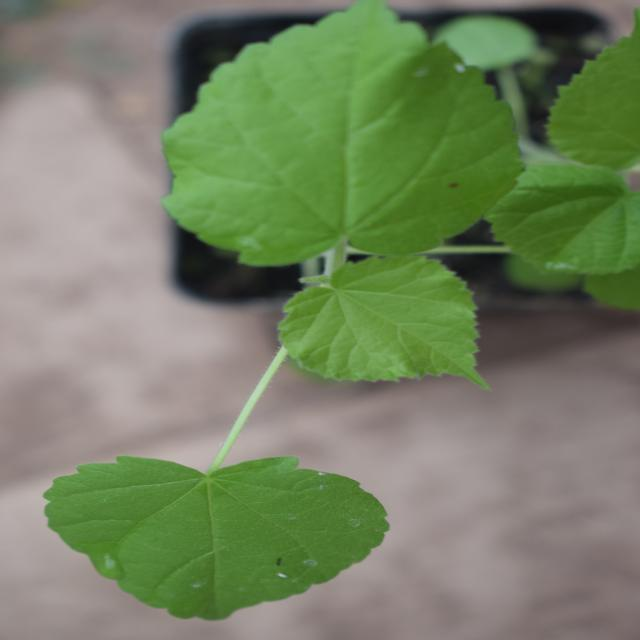abutilon theophrasti: (20, 18, 590, 538)
